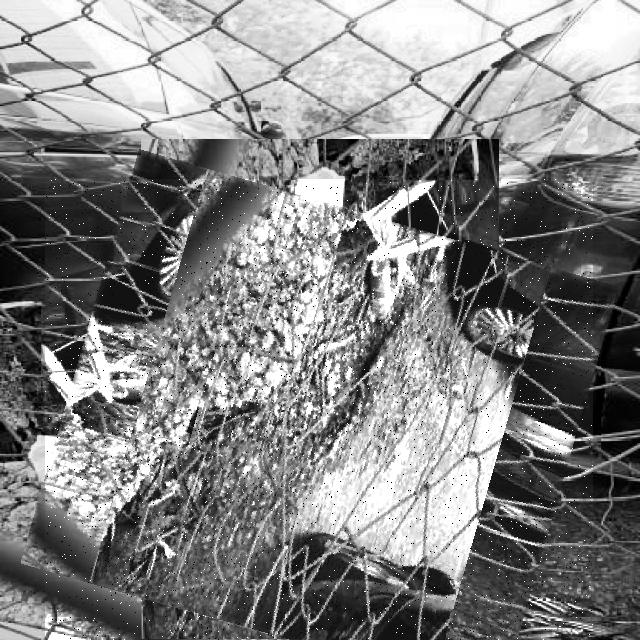anomaly-fence: (45, 179, 593, 640)
